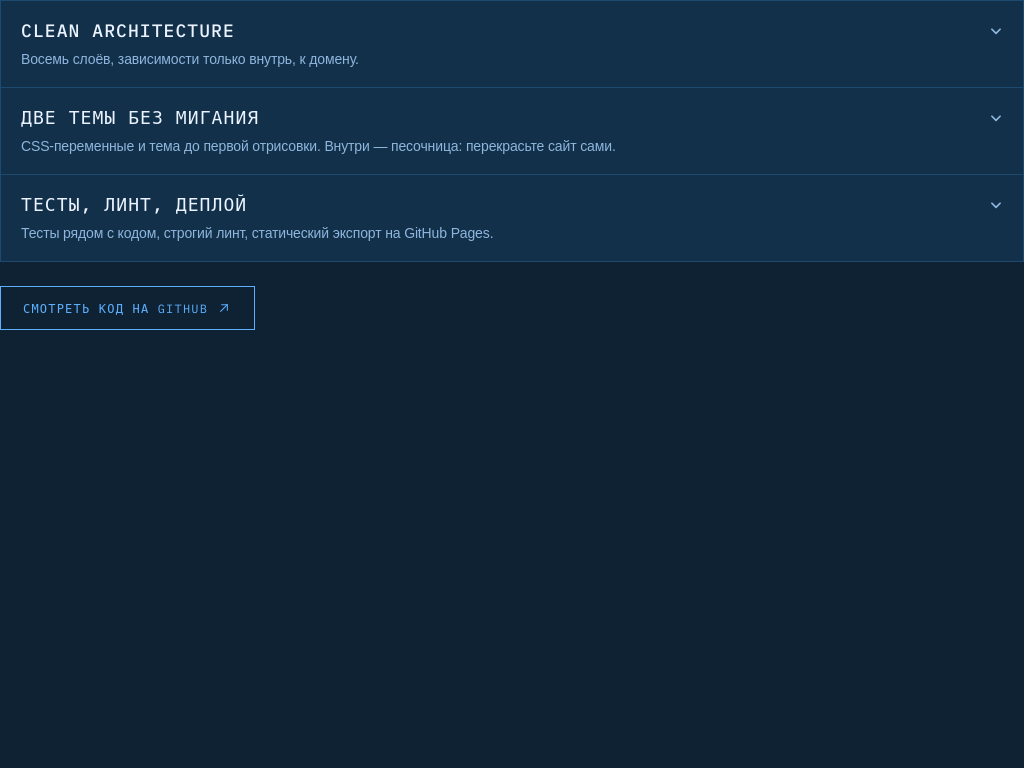
Test: SiteCase › opening the themes aspect reveals the colour sandbox
Step 1. Click the button "Две темы" → (140, 118), box 1,88 -> 1023,174
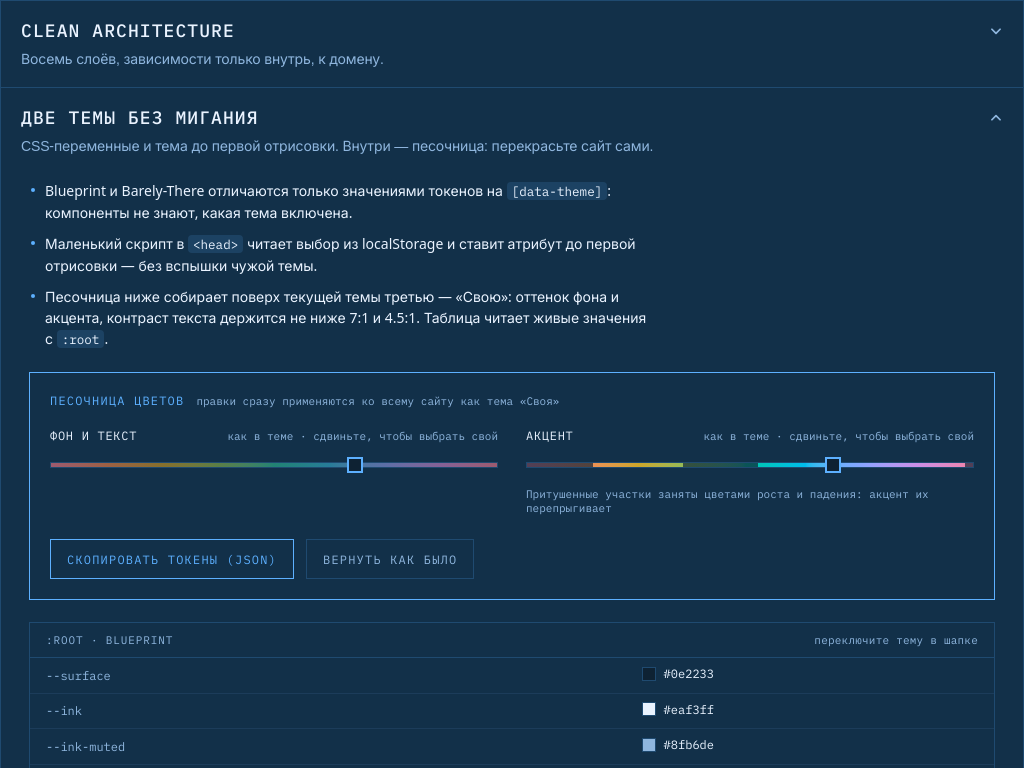
Expected: the button "Две темы" is expanded, 1,88 -> 1023,174
Expected: the element "Песочница цветов" is shown, 29,372 -> 995,600
